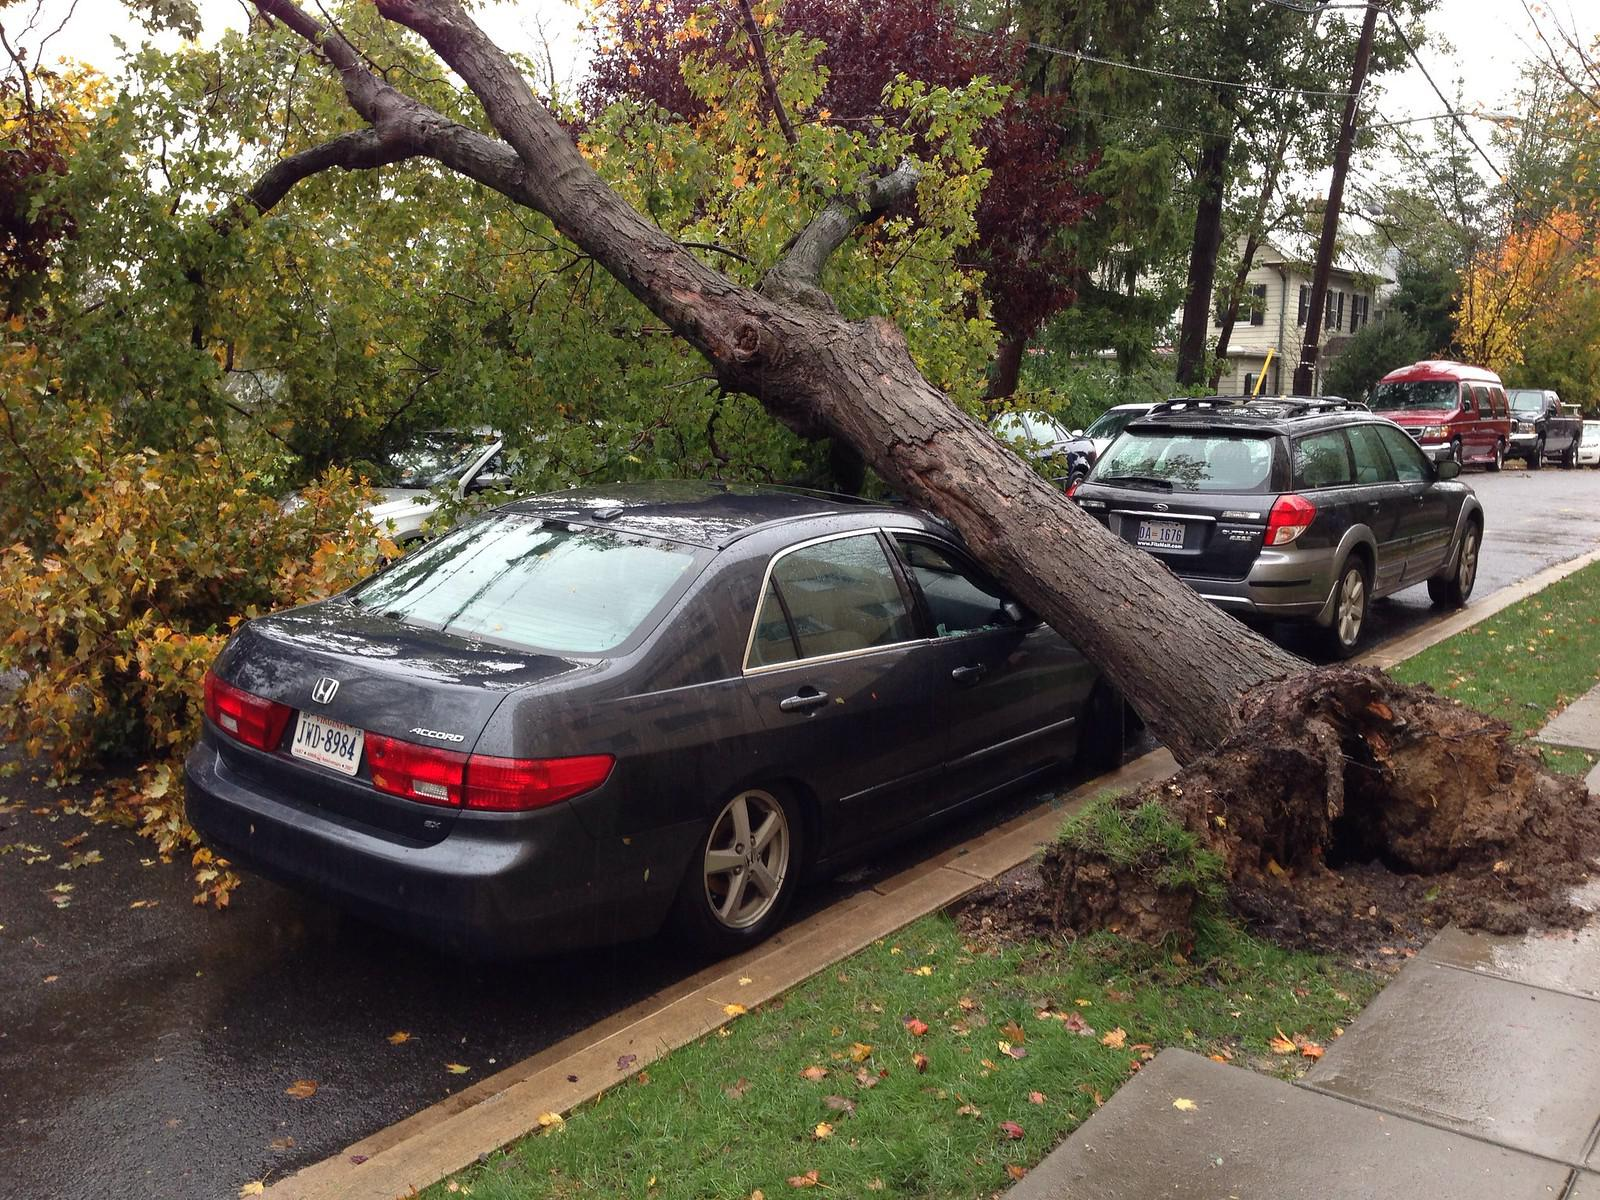roof-dent: (605, 434, 976, 539)
